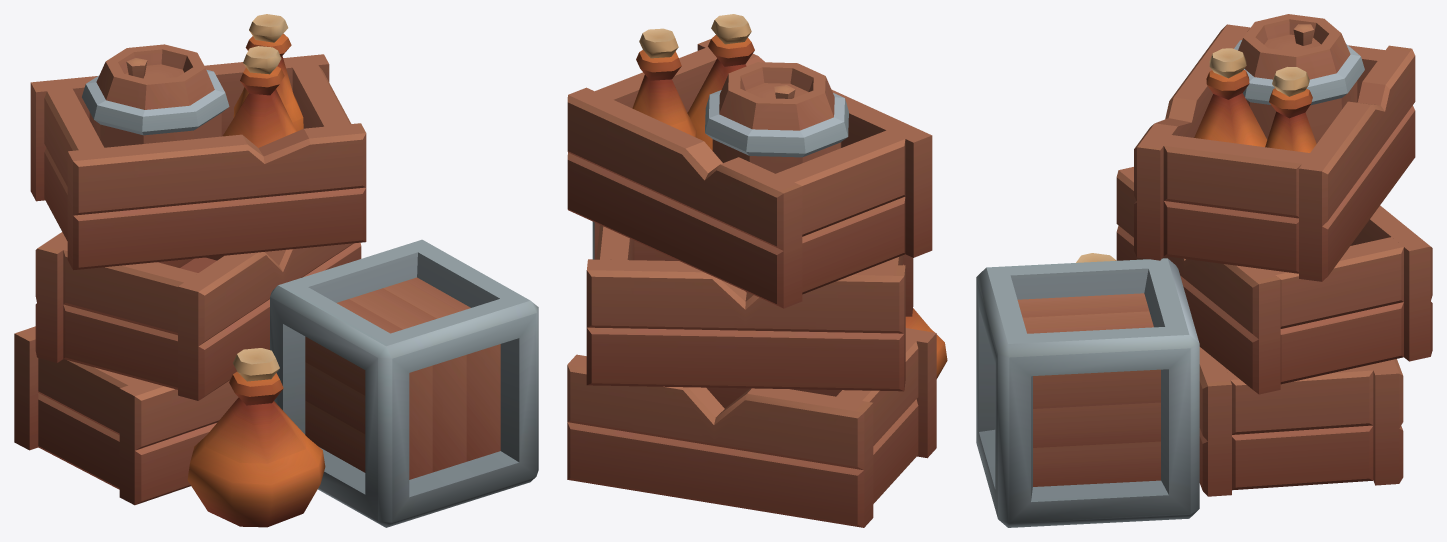
File: crates_stacked.gltf.glb
3 views of the same model, side by side, from view 1: azimuth 30°, elevation 25°; view 2: azimuth 150°, elevation 25°; view 3: azimuth 270°, elevation 25° (orthographic). The views are drawn at different scales.
Parts seen in each view (by area): view 1: crates_stacked; view 2: crates_stacked; view 3: crates_stacked.
Part boxes in pixels (x1=…): crates_stacked: x1=14, y1=14, x2=538, y2=527; crates_stacked: x1=567, y1=14, x2=947, y2=527; crates_stacked: x1=976, y1=14, x2=1432, y2=527.
Size of the model in its own units: 2.09 by 2.14 by 2.25.
Materials: 1 (1 with a texture image).
